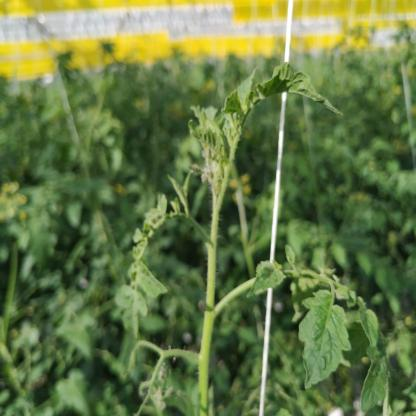T_L_H: (300, 290, 352, 389)
T_L_R: (258, 64, 340, 115)
T_S_H: (199, 206, 221, 416)
